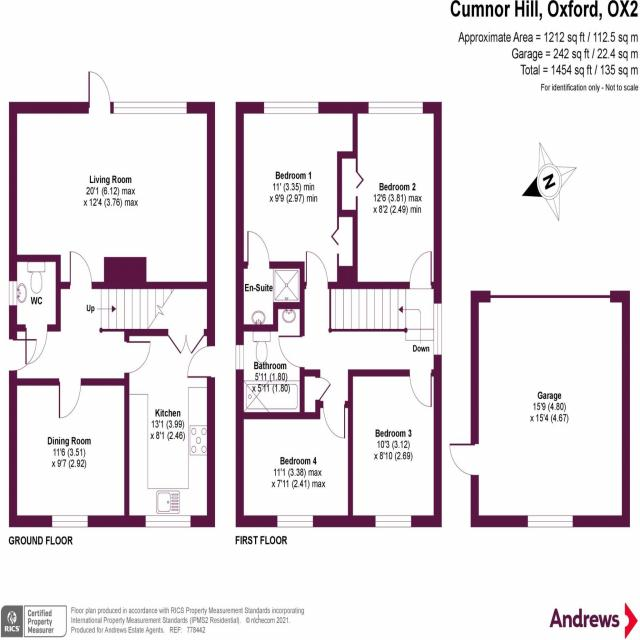DOOR: (56, 378, 83, 422), (448, 443, 479, 479), (407, 369, 434, 410), (321, 401, 347, 443), (88, 70, 112, 115), (124, 339, 153, 376), (245, 228, 271, 269), (276, 332, 304, 370), (186, 343, 215, 379), (68, 249, 94, 289), (304, 249, 330, 288), (409, 249, 434, 289)
ROOM: (9, 69, 216, 290), (235, 100, 359, 290), (337, 102, 442, 289), (9, 379, 130, 530), (124, 328, 215, 527), (347, 368, 442, 527), (235, 400, 353, 528)
WINDOW: (112, 100, 189, 115), (366, 100, 425, 116), (262, 100, 320, 116), (144, 514, 192, 529), (526, 514, 574, 529), (374, 513, 413, 529), (50, 514, 89, 529), (275, 515, 315, 529), (433, 301, 443, 356), (8, 278, 18, 307)
